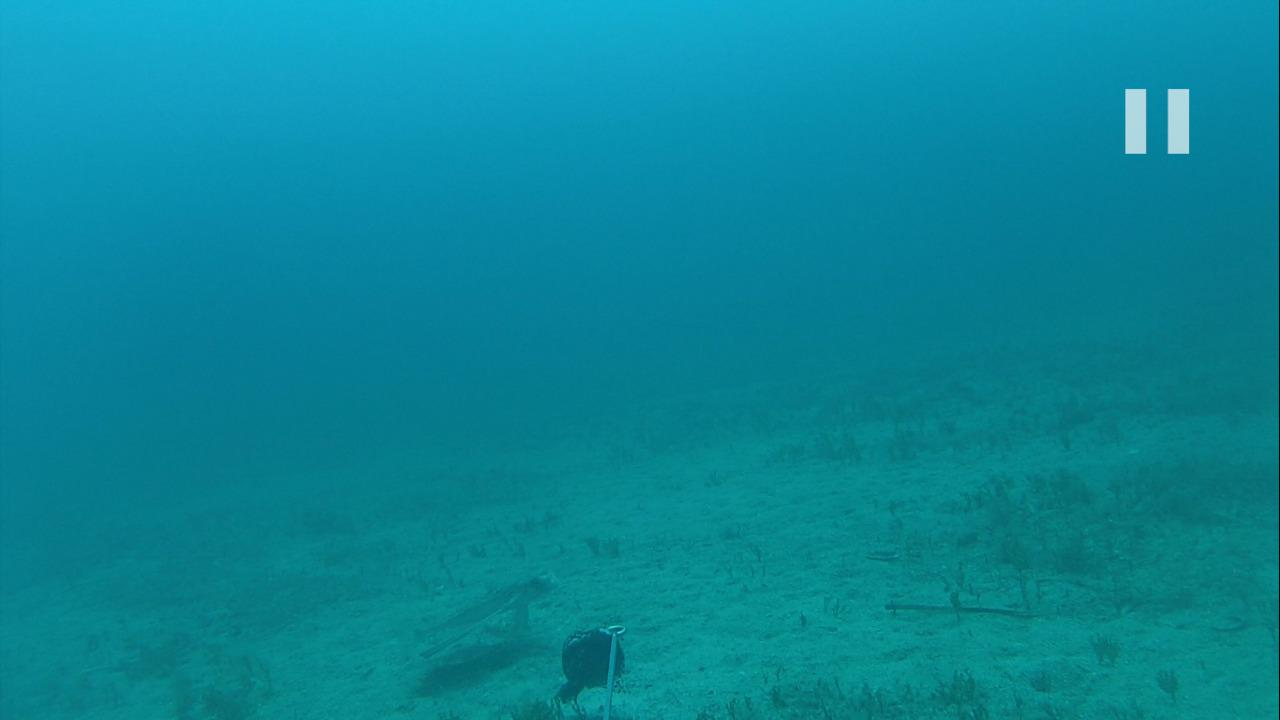dactylopterus: (399, 567, 553, 667)
